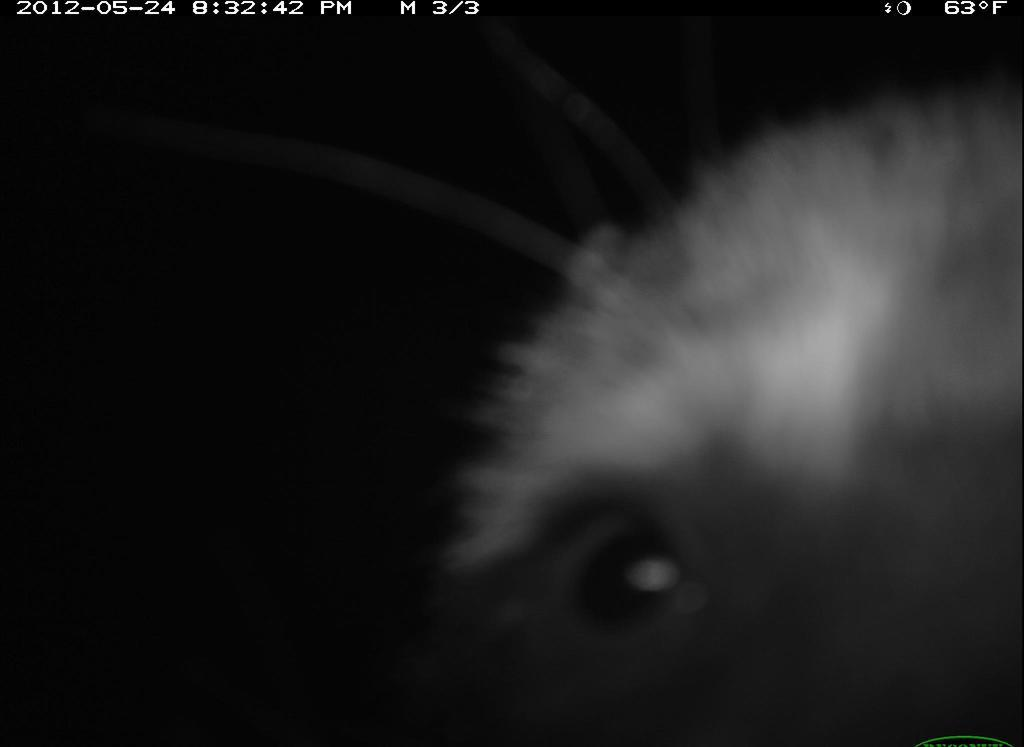raccoon: (365, 52, 1022, 747)
